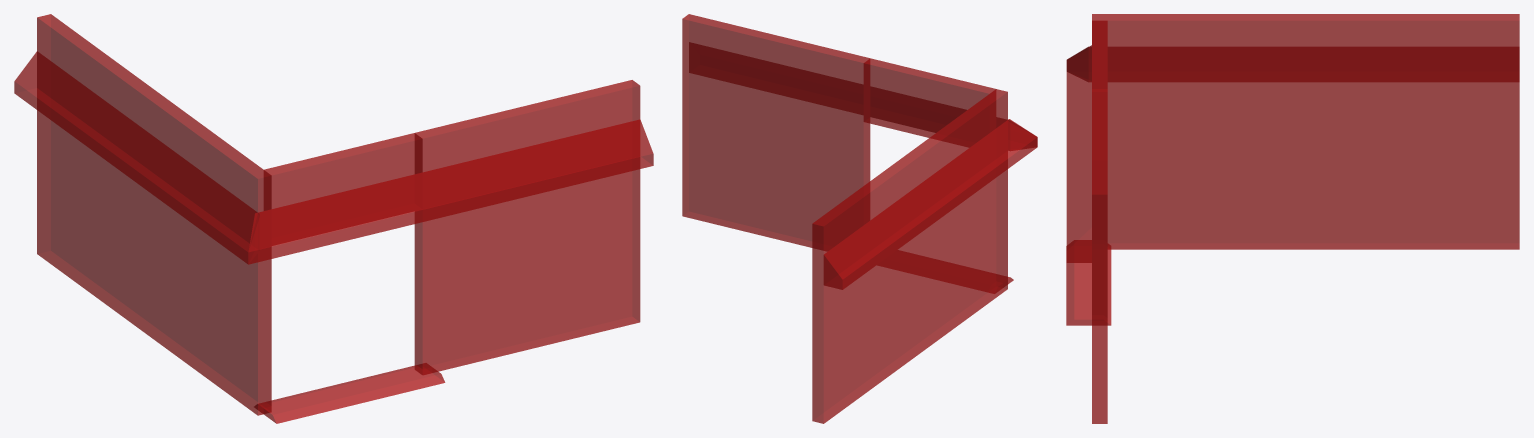
The model's file is SM_Bld_ShopFront_05_Collision.fbx.
3 views of the same model, side by side, from view 1: azimuth 30°, elevation 25°; view 2: azimuth 150°, elevation 25°; view 3: azimuth 270°, elevation 25° (orthographic). The views are drawn at different scales.
Parts seen in each view (by area): view 1: SM_Bld_ShopFront_05_Collision; view 2: SM_Bld_ShopFront_05_Collision; view 3: SM_Bld_ShopFront_05_Collision.
Part boxes in pixels (bbox=[...]): SM_Bld_ShopFront_05_Collision: bbox=[14, 14, 653, 423]; SM_Bld_ShopFront_05_Collision: bbox=[682, 14, 1037, 423]; SM_Bld_ShopFront_05_Collision: bbox=[1066, 14, 1519, 423].
Bounding box in the file's own units: 537 × 300 × 537.
